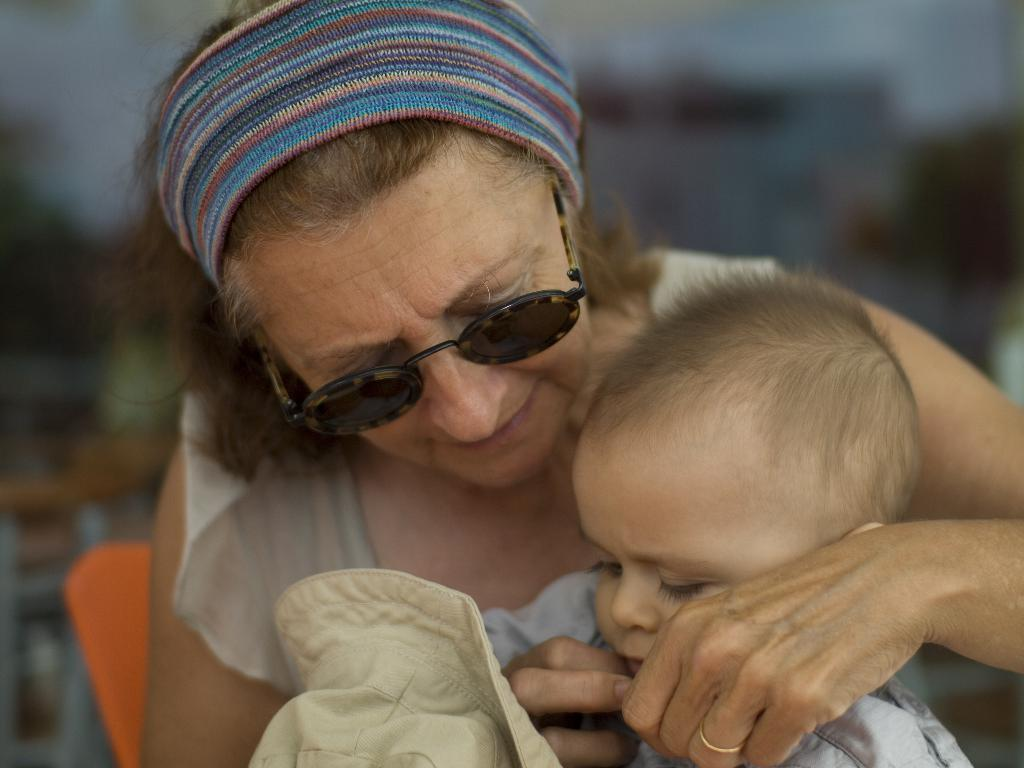Hat: (248, 570, 562, 766)
